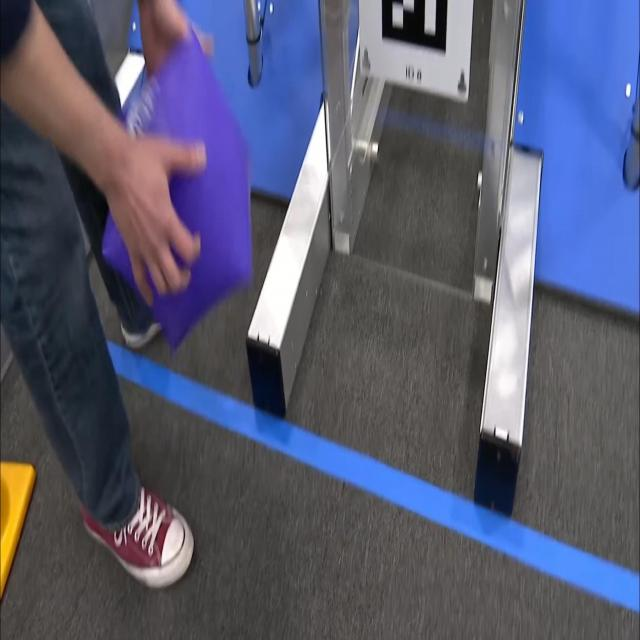frc_cone: (1, 458, 34, 614)
frc_cube: (101, 39, 252, 355)
